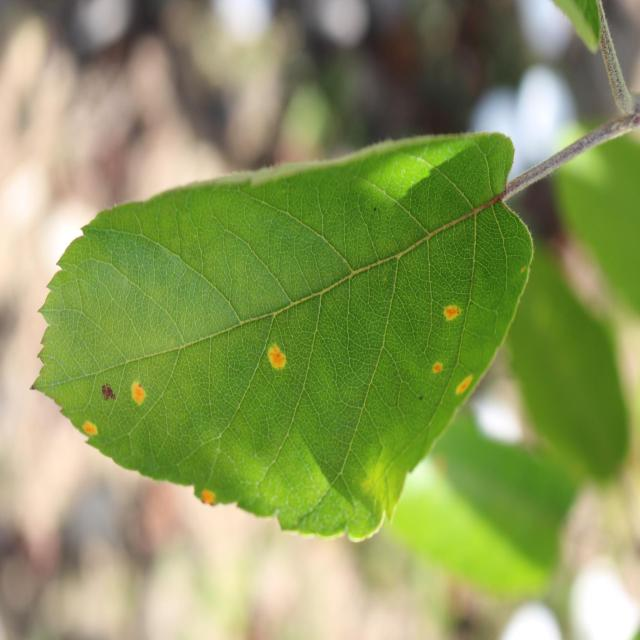Rust: (258, 315, 294, 389), (125, 364, 152, 422), (434, 299, 472, 334), (190, 483, 226, 518), (78, 414, 110, 453), (450, 368, 481, 408), (427, 356, 450, 376)
